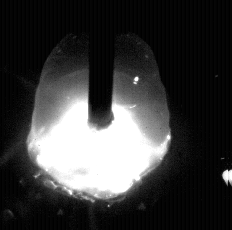arame: (89, 0, 114, 130)
poca: (26, 0, 169, 230)
